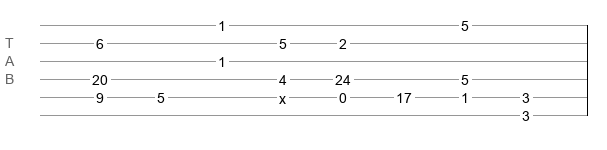0: (339, 90, 347, 100)
1: (218, 54, 226, 64), (218, 18, 226, 28), (461, 90, 469, 100)
17: (396, 90, 412, 100)
2: (339, 36, 347, 46)
20: (92, 72, 108, 82)
24: (335, 72, 351, 82)
3: (522, 108, 530, 118), (522, 90, 530, 100)
4: (279, 72, 287, 82)
5: (157, 90, 165, 100), (279, 36, 287, 46), (461, 72, 469, 82), (461, 18, 469, 28)
6: (96, 36, 104, 46)
9: (96, 90, 104, 100)
x: (279, 91, 286, 99)
